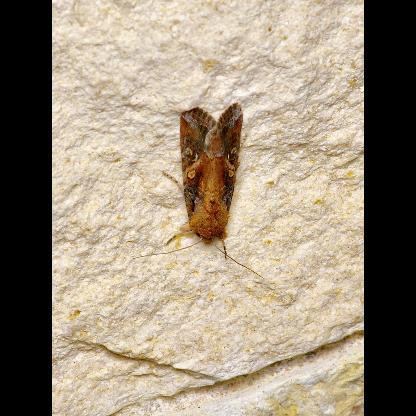Fall Armyworm Moth: (129, 98, 269, 284)
